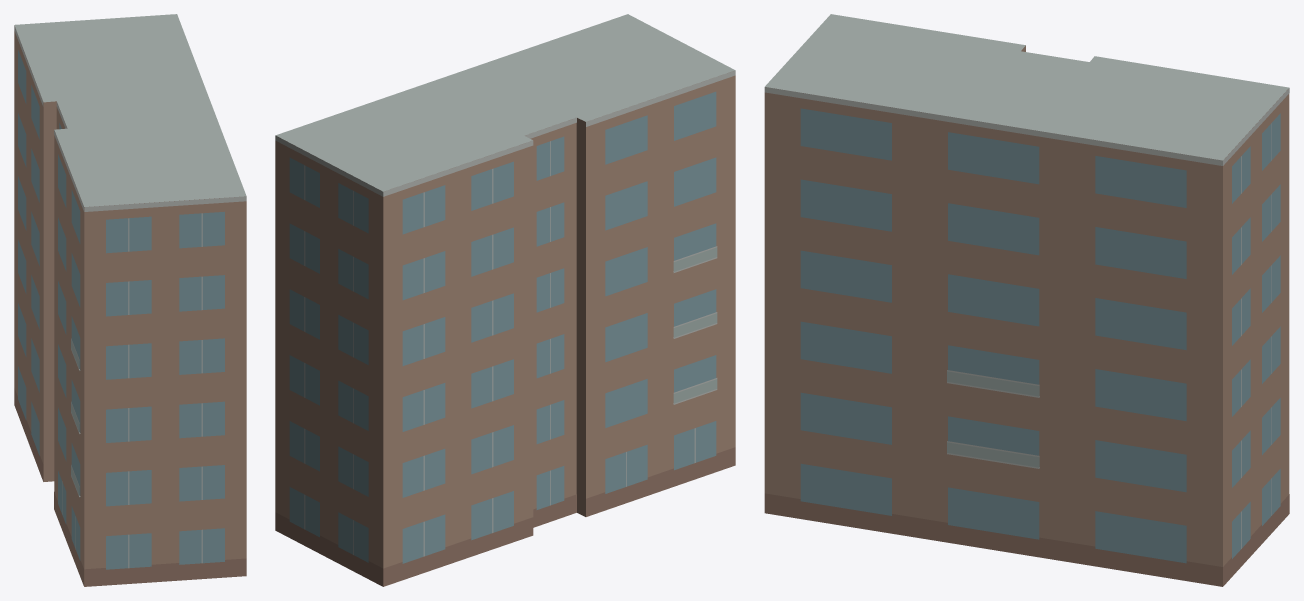
The model's file is survey-upis-32571462.glb.
3 views of the same model, side by side, from view 1: azimuth 30°, elevation 25°; view 2: azimuth 150°, elevation 25°; view 3: azimuth 270°, elevation 25° (orthographic). The views are drawn at different scales.
Visible parts, largest first — view 1: survey-upis-32571462.tmp; view 2: survey-upis-32571462.tmp; view 3: survey-upis-32571462.tmp.
Part boxes in pixels (x1=…): survey-upis-32571462.tmp: x1=14, y1=14, x2=246, y2=586; survey-upis-32571462.tmp: x1=275, y1=14, x2=735, y2=586; survey-upis-32571462.tmp: x1=764, y1=14, x2=1289, y2=586.
Bounding box in the file's own units: 13.72 × 18.6 × 20.76.
